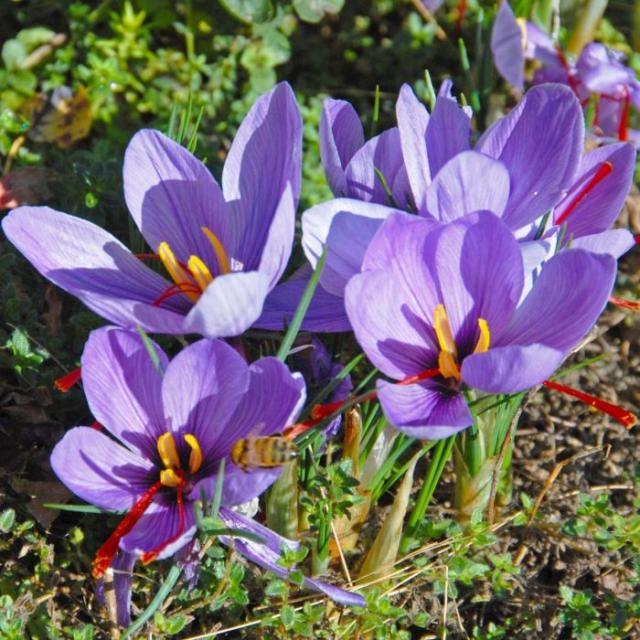saffron open: (4, 82, 302, 338), (51, 326, 305, 571), (346, 211, 616, 439)
